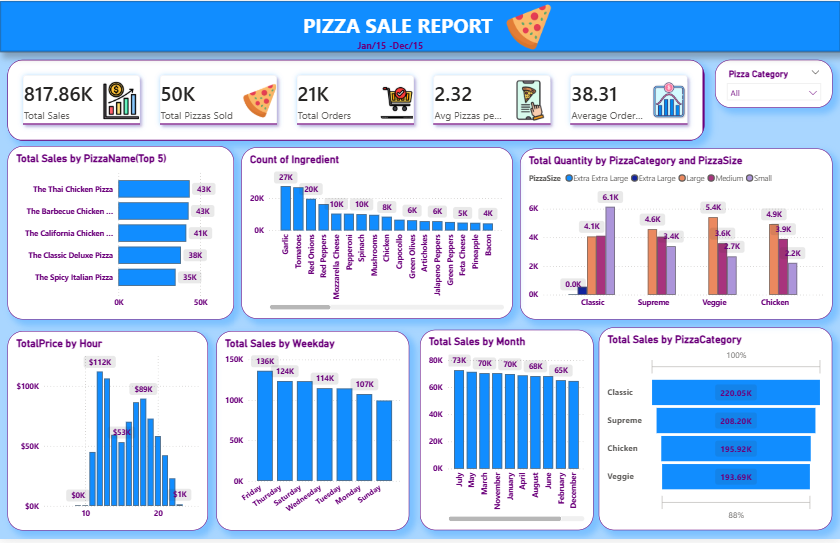

The page's visual inventory and layout, read from the dashboard file:
{"tool":"powerbi","page":{"name":"Dashboard","canvas":[1344,862],"ordinal":0},"visuals":[{"type":"clusteredColumnChart","title":"Total Sales by Weekday","fields":{"Category":["DimDate.WeekdayName"],"Y":["Pizza Sales.Total Sales"]},"box":[345.2,527.2,309.1,319.2],"z":0},{"type":"clusteredColumnChart","title":"TotalPrice by Hour","fields":{"Category":["Pizza Sales.OrderHour"],"Y":["Sum(Pizza Sales.TotalPrice)"]},"box":[11.6,527.2,320.7,319.2],"z":1000},{"type":"cardVisual","fields":{"Data":["Pizza Sales.Total Sales","Pizza Sales.Total Pizzas Sold","Pizza Sales.Total Orders","Pizza Sales.Avg Pizzas per Order","Pizza Sales.Average Order Value"]},"box":[11.6,93.9,1115.1,130],"z":2000},{"type":"clusteredBarChart","title":"Total Sales by PizzaName(Top 5)","fields":{"Category":["DimPizzaName.PizzaName"],"Y":["Pizza Sales.Total Sales"]},"box":[11.6,231.1,362.5,277.3],"z":3000},{"type":"columnChart","title":"Total Sales by Month","fields":{"Category":["DimDate.MonthName"],"Y":["Pizza Sales.Total Sales"]},"box":[671.6,525.8,277.3,320.7],"z":4000},{"type":"funnel","fields":{"Category":["DimPizzaName.PizzaCategory"],"Y":["Pizza Sales.Total Sales"]},"box":[958.3,521.7,373.3,325],"z":5000},{"type":"clusteredColumnChart","title":"Total Quantity by PizzaCategory and PizzaSize","fields":{"Category":["DimPizza.PizzaCategory"],"Y":["Sum(Pizza Sales.Quantity)"],"Series":["DimPizza.PizzaSize"]},"box":[831.7,235,500,273.3],"z":6000},{"type":"clusteredColumnChart","title":"Count of Ingredient ","fields":{"Category":["Ingredients.Ingredient"],"Y":["CountNonNull(Ingredients.Ingredient)"]},"box":[385.6,234,434.8,274.4],"z":7000},{"type":"slicer","fields":{"Values":["DimPizza.PizzaCategory"]},"box":[1143.3,93.3,188.3,76.7],"z":8000},{"type":"shape","box":[0,0,1345,81.7],"z":9000},{"type":"textbox","box":[416.7,11.7,476.7,56.7],"z":10000},{"type":"textbox","box":[551.7,55,145,38.3],"z":11000},{"type":"image","box":[696.7,3.3,300,75],"z":12000}]}

Visuals, with their boxes in screenshot pixels (x1, y1, x2, y2), scaled from the page's 1344x862 canvas onto the 840x543 screenshot:
"Total Sales by Weekday" clusteredColumnChart: l=216, t=332, r=409, b=533
"TotalPrice by Hour" clusteredColumnChart: l=7, t=332, r=208, b=533
cardVisual - Pizza Sales.Total Sales x Pizza Sales.Total Pizzas Sold: l=7, t=59, r=704, b=141
"Total Sales by PizzaName(Top 5)" clusteredBarChart: l=7, t=146, r=234, b=320
"Total Sales by Month" columnChart: l=420, t=331, r=593, b=533
funnel - DimPizzaName.PizzaCategory x Pizza Sales.Total Sales: l=599, t=329, r=832, b=533
"Total Quantity by PizzaCategory and PizzaSize" clusteredColumnChart: l=520, t=148, r=832, b=320
"Count of Ingredient " clusteredColumnChart: l=241, t=147, r=513, b=320
slicer - DimPizza.PizzaCategory: l=715, t=59, r=832, b=107
shape: l=0, t=0, r=839, b=51
textbox: l=260, t=7, r=558, b=43
textbox: l=345, t=35, r=435, b=59
image: l=435, t=2, r=623, b=49
